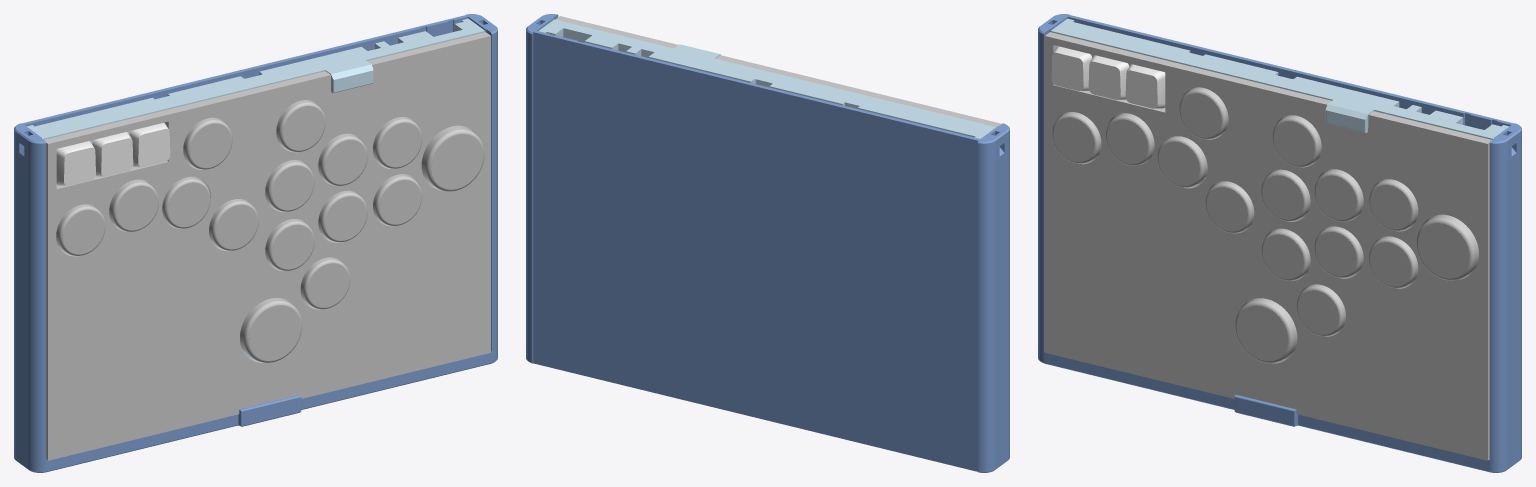
Rendered from beacon.gltf.
The picture shows the model from 3 angles, left to right: view 1: azimuth 30°, elevation 25°; view 2: azimuth 150°, elevation 25°; view 3: azimuth 330°, elevation 25°; orthographic projection.
Visible parts, largest first — view 1: Acrylic_Top, Buttons_24mm (×13), Case_Bottom, Case_Top, Buttons_30mm (×2), mesh47_mesh (×3); view 2: Case_Bottom, Case_Top, Acrylic_Top; view 3: Acrylic_Top, Buttons_24mm (×13), Case_Bottom, Case_Top, Buttons_30mm (×2), mesh47_mesh (×3).
Boxes of the visible parts, x1,y1,x2,y2 form: Acrylic_Top: [44, 32, 490, 460]; Buttons_24mm (×13): [56, 100, 422, 309]; Case_Bottom: [14, 14, 497, 472]; Case_Top: [27, 18, 485, 358]; Buttons_30mm (×2): [240, 125, 484, 362]; mesh47_mesh (×3): [56, 123, 170, 185]; Case_Bottom: [526, 14, 1009, 472]; Case_Top: [538, 19, 995, 138]; Acrylic_Top: [555, 16, 1001, 126]; Acrylic_Top: [1045, 32, 1491, 460]; Buttons_24mm (×13): [1052, 87, 1418, 336]; Case_Bottom: [1038, 14, 1521, 472]; Case_Top: [1050, 18, 1508, 358]; Buttons_30mm (×2): [1235, 214, 1478, 363]; mesh47_mesh (×3): [1051, 46, 1165, 108].
Bounding box in the file's own units: 0.231 × 0.1568 × 0.0272.
